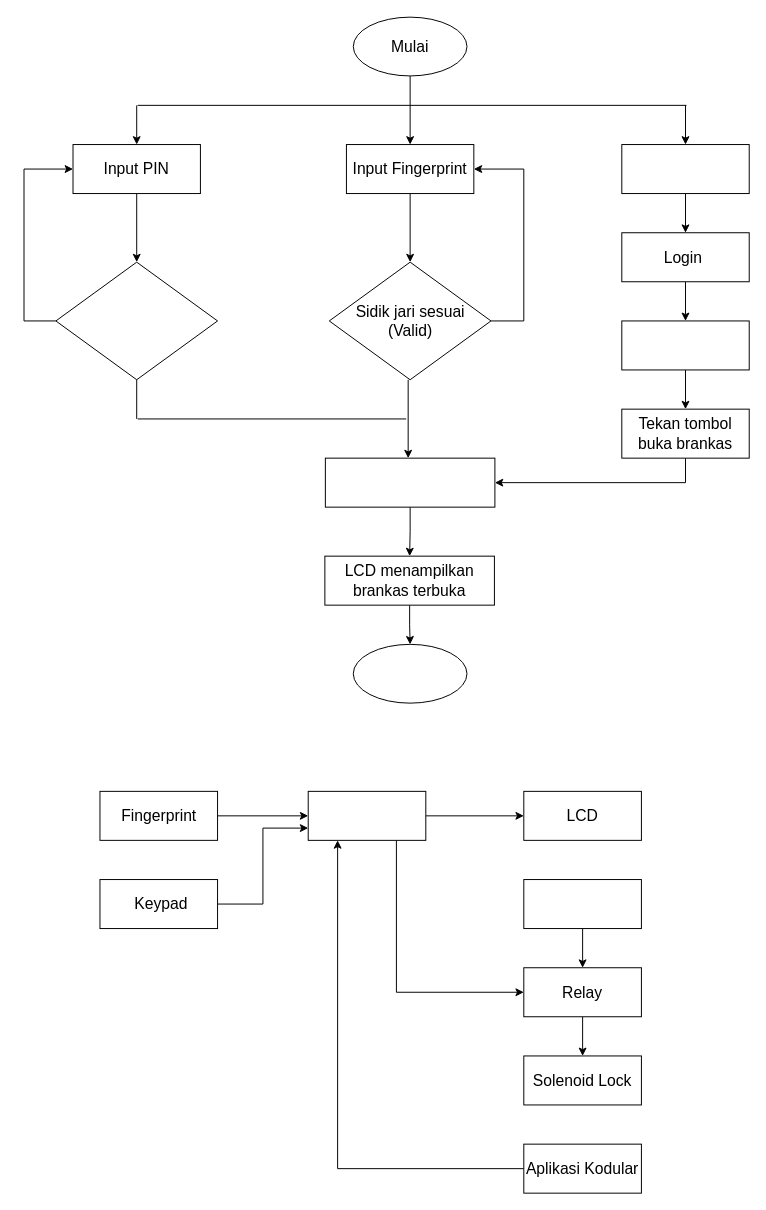
This 766x1210 diagram has some shape labels left out. The centre of each missing label's shape, as x and y in pixels:
Adaptor: [582,904]
ESP32: [366,815]
Masuk di apk kodular: [685,169]
Masukan PIN: [685,345]
PIN sesuai (Valid): [136,320]
Selesai: [409,673]
Solenoid terbuka: [409,482]
